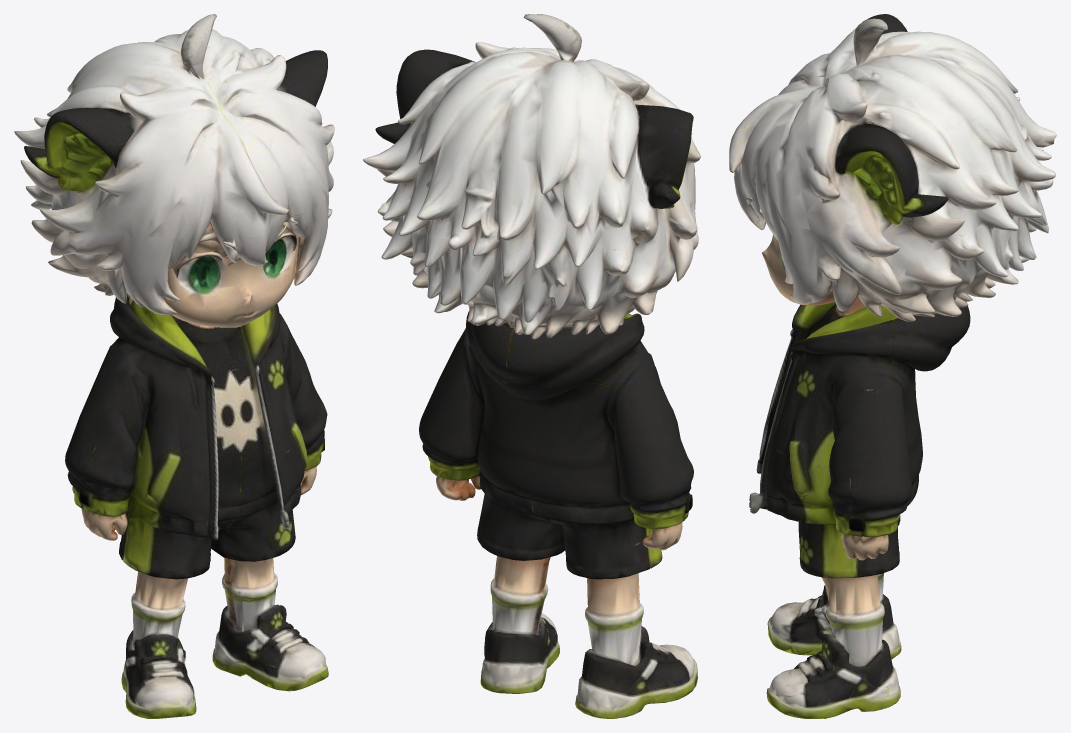
File: xiaohei-avatar-hi3d-web-v1.glb
The picture shows the model from 3 angles, left to right: view 1: azimuth 30°, elevation 25°; view 2: azimuth 150°, elevation 25°; view 3: azimuth 270°, elevation 25°; orthographic projection. The views are drawn at different scales.
Visible parts, largest first — view 1: world; view 2: world; view 3: world.
Part boxes in pixels (x1,y1,x2,y2): world: [14, 14, 334, 718]; world: [363, 14, 700, 718]; world: [729, 14, 1056, 718].
Size of the model in its own units: 0.4647 by 0.9999 by 0.4487.
1 material, 1 textured.
